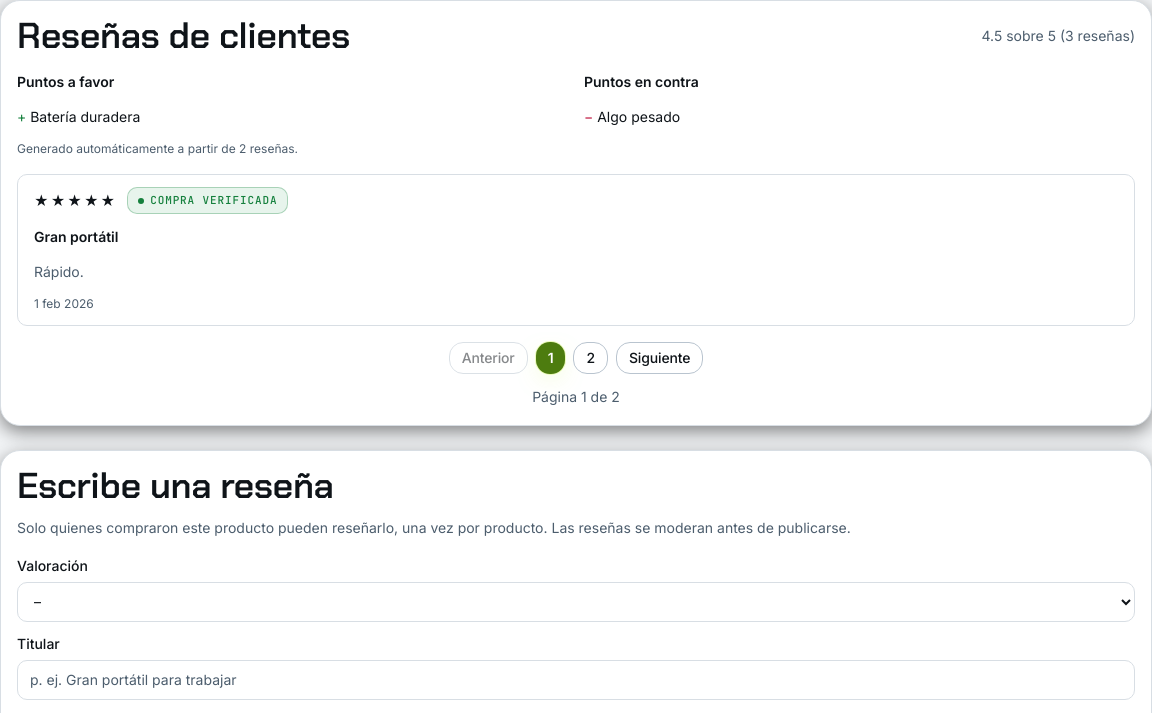
ProductReviews › paginates two reviews per page with centered controls at the bottom
Check: the text "Gran portátil" is shown, box [34,228,118,245]
Check: the button "Anterior" is shown, box [449,342,528,374]
Click the button "Siguiente" at (660, 358), box [616,342,703,374]
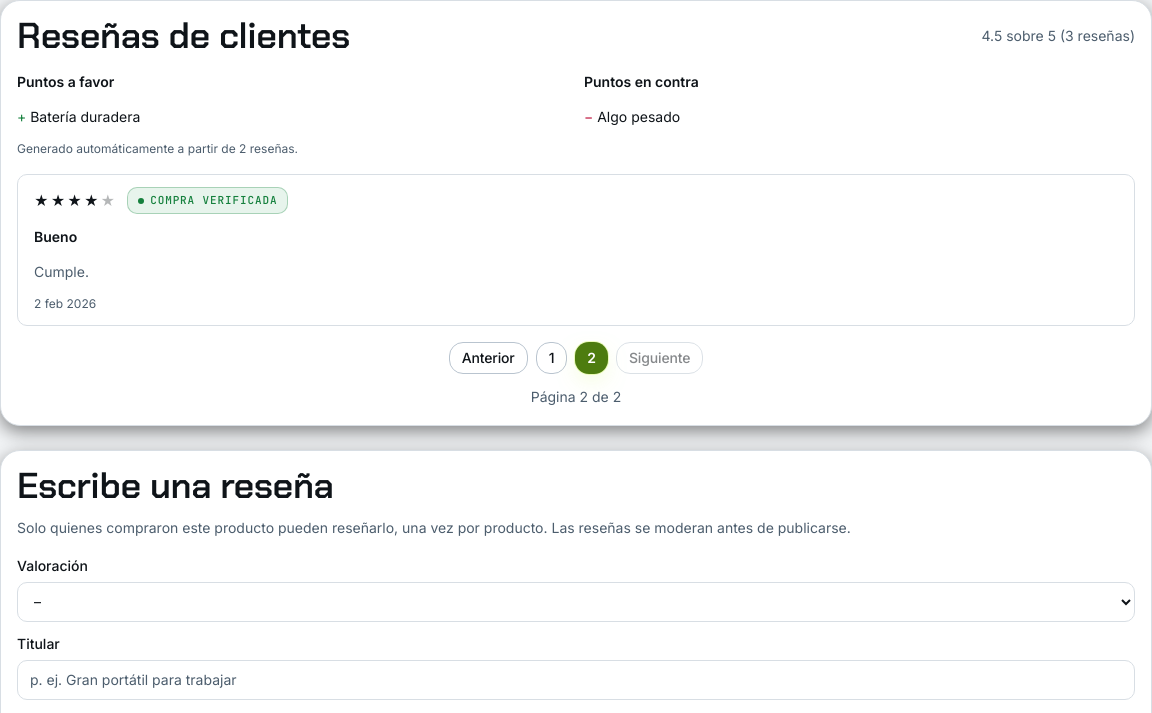
Check: the text "Bueno" is shown, box [34,228,77,245]
